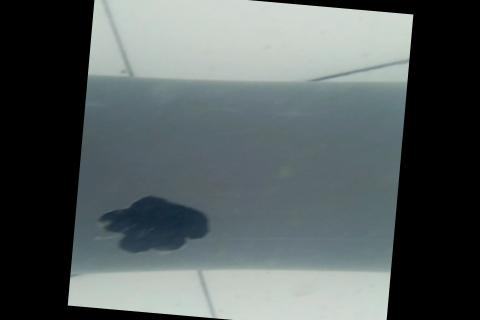kebocoran: (90, 189, 215, 262)
